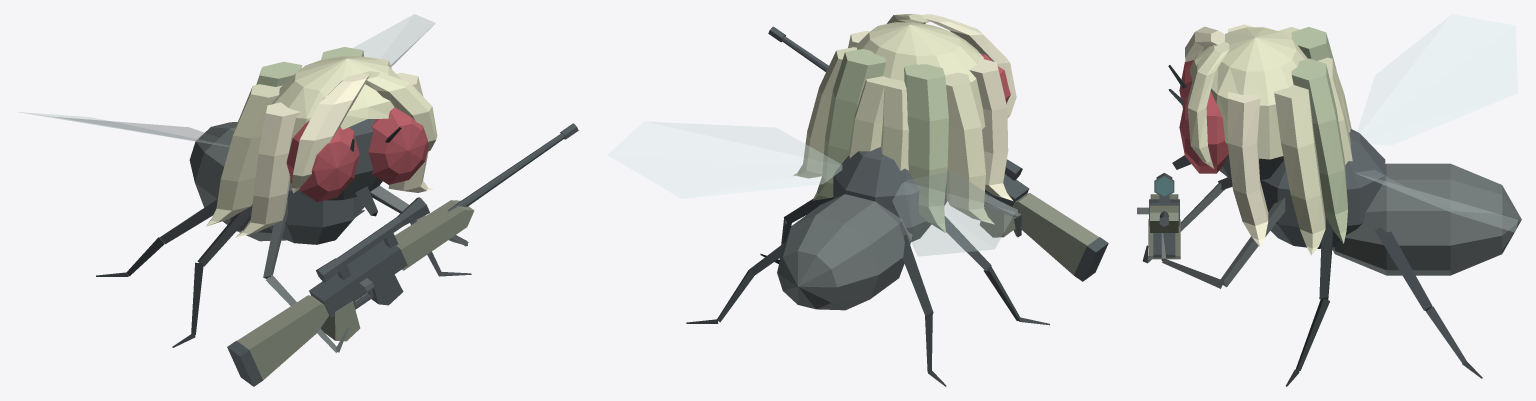
File: flyper-wolf.glb
3 renders of one model, left to right at view 1: azimuth 30°, elevation 25°; view 2: azimuth 150°, elevation 25°; view 3: azimuth 270°, elevation 25°, orthographic. The views are drawn at different scales.
Visible parts, largest first — view 1: Swept parted hair cap, Left outer back lock, Left face framing lock, Rifle angular buttstock, Right compound eye, Left swept curtain bang, Thorax, Left compound eye, Rifle receiver, Abdomen, Rifle olive fore-end, Right swept curtain bang (+15 smaller); view 2: Right wing, Abdomen, Left wing, Left back middle lock, Swept parted hair cap, Left outer back lock, Thorax, Right back middle lock, Left face framing lock, Rifle angular buttstock, Right outer back lock, Left nape layer (+9 smaller); view 3: Abdomen, Left wing, Swept parted hair cap, Right outer back lock, Right back middle lock, Thorax, Right face framing lock, Right swept curtain bang, Right compound eye, Right wing, Right leg 3 segment 1, Left back middle lock (+14 smaller).
Part boxes in pixels (<box>): Swept parted hair cap: <box>271,56,401,161</box>; Left outer back lock: <box>206,84,282,226</box>; Left face framing lock: <box>235,102,300,237</box>; Rifle angular buttstock: <box>237,295,328,380</box>; Right compound eye: <box>368,107,428,184</box>; Left swept curtain bang: <box>291,73,370,193</box>; Thorax: <box>269,182,364,244</box>; Left compound eye: <box>286,121,359,202</box>; Rifle receiver: <box>309,240,407,317</box>; Abdomen: <box>189,122,286,241</box>; Rifle olive fore-end: <box>395,200,474,270</box>; Right swept curtain bang: <box>361,71,437,151</box>; Right wing: <box>608,121,842,198</box>; Abdomen: <box>777,194,912,310</box>; Left wing: <box>892,171,1015,256</box>; Left back middle lock: <box>904,64,948,232</box>; Swept parted hair cap: <box>854,22,985,129</box>; Left outer back lock: <box>945,72,994,224</box>; Thorax: <box>833,147,947,241</box>; Right back middle lock: <box>812,49,886,200</box>; Left face framing lock: <box>969,58,1013,201</box>; Rifle angular buttstock: <box>1012,193,1098,275</box>; Right outer back lock: <box>793,47,857,178</box>; Left nape layer: <box>881,77,908,170</box>; Abdomen: <box>1332,163,1521,275</box>; Left wing: <box>1357,14,1517,145</box>; Swept parted hair cap: <box>1189,27,1307,159</box>; Right outer back lock: <box>1274,84,1325,255</box>; Right back middle lock: <box>1291,58,1347,243</box>; Thorax: <box>1260,129,1385,248</box>; Right face framing lock: <box>1227,92,1268,247</box>; Right swept curtain bang: <box>1187,42,1229,168</box>; Right compound eye: <box>1179,91,1228,173</box>; Right wing: <box>1356,170,1517,232</box>; Right leg 3 segment 1: <box>1375,227,1432,310</box>; Left back middle lock: <box>1291,27,1336,69</box>.
Bounding box in the file's own units: 3.94 × 2.46 × 3.09.
